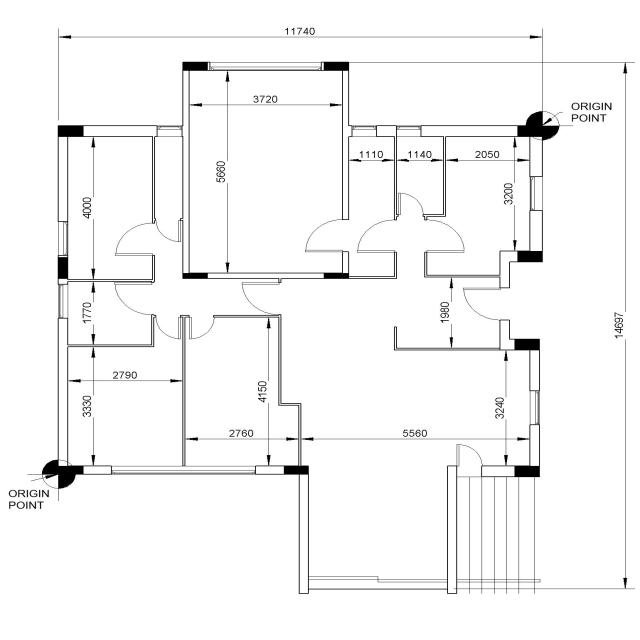Column: (517, 125, 543, 137), (58, 125, 83, 137), (517, 251, 543, 262), (514, 339, 540, 350), (514, 466, 540, 477), (182, 62, 208, 71), (324, 62, 349, 71), (58, 257, 68, 279), (58, 466, 84, 474), (284, 466, 309, 474), (182, 272, 208, 278), (324, 273, 349, 279)
Door: (463, 288, 510, 320), (305, 219, 349, 252), (115, 223, 155, 256), (114, 282, 154, 315), (242, 282, 281, 315), (357, 220, 397, 252), (424, 220, 464, 252), (457, 444, 482, 477), (189, 315, 215, 339), (155, 218, 181, 242), (398, 192, 424, 216), (156, 315, 181, 339)
Window: (112, 466, 256, 474), (208, 62, 324, 71), (530, 177, 542, 210), (529, 390, 540, 424), (58, 284, 68, 318), (58, 222, 68, 256), (352, 125, 377, 137), (157, 125, 182, 137), (397, 125, 421, 137)
